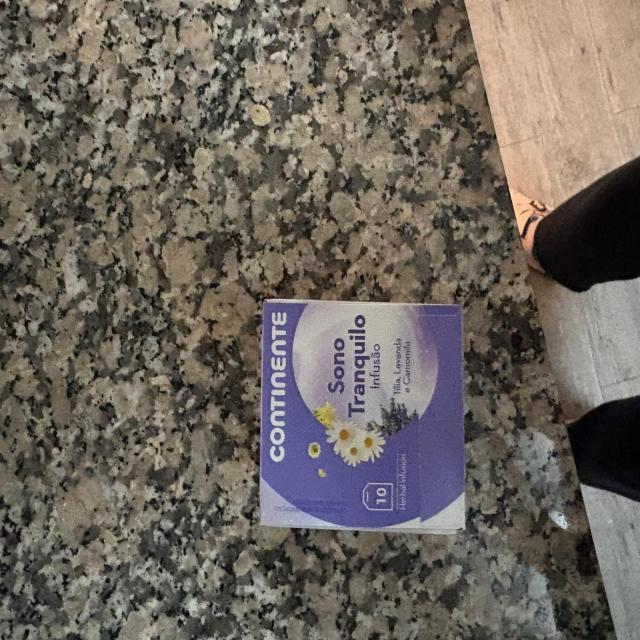good_package: (265, 300, 466, 535)
